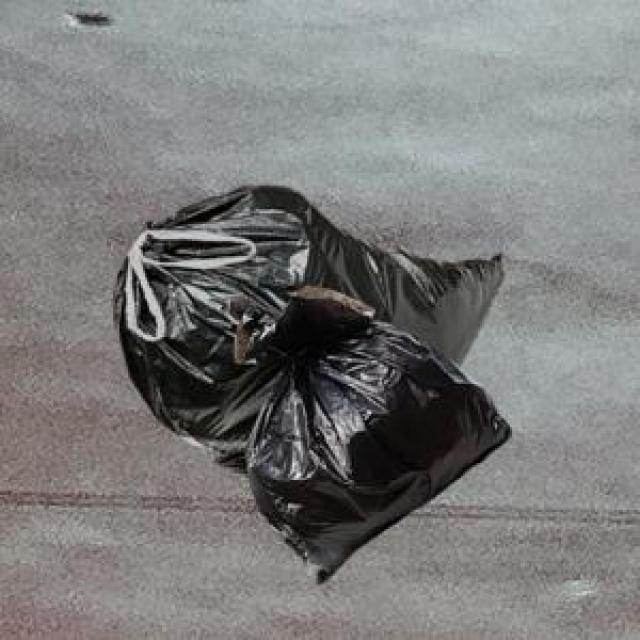waste: (115, 186, 510, 581)
